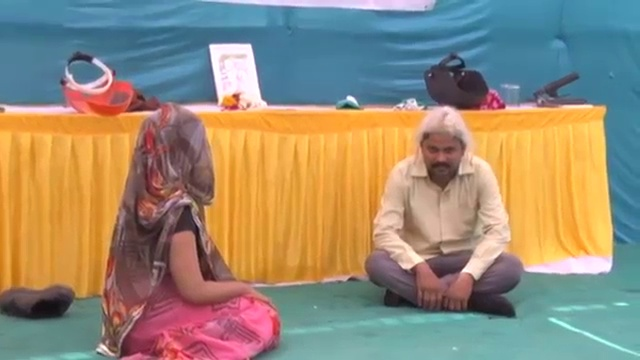helmet_off: (127, 104, 213, 199), (418, 107, 467, 185)
person: (96, 106, 284, 360), (365, 106, 525, 317)
